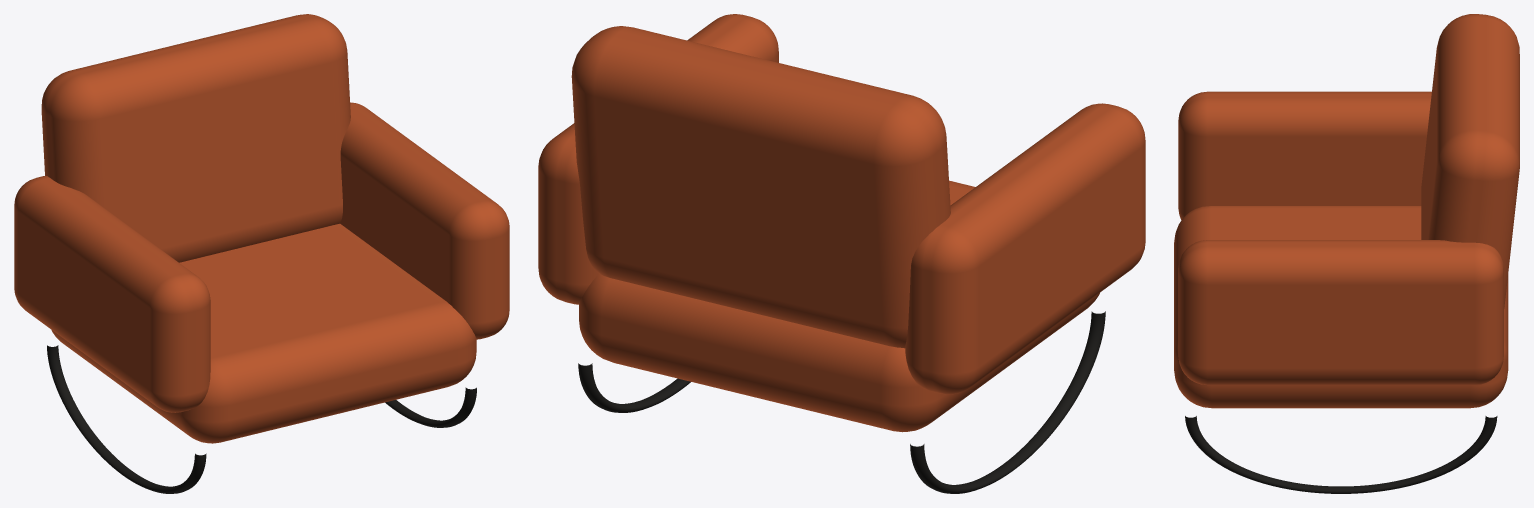
The model's file is kova-armchair.glb.
3 renders of one model, left to right at view 1: azimuth 30°, elevation 25°; view 2: azimuth 150°, elevation 25°; view 3: azimuth 270°, elevation 25°, orthographic. The views are drawn at different scales.
Parts seen in each view (by area): view 1: back, seat, arm-l, arm-r, sled-l, sled-r; view 2: back, arm-l, seat, arm-r, sled-l, sled-r; view 3: arm-r, arm-l, back, seat, sled-r.
Boxes of the visible parts, x1,y1,x2,y2 form: back: (41, 14, 350, 262); seat: (51, 223, 476, 443); arm-l: (14, 175, 210, 412); arm-r: (340, 102, 509, 339); sled-l: (47, 345, 206, 493); sled-r: (385, 387, 476, 427); back: (571, 26, 950, 348); arm-l: (905, 103, 1145, 394); seat: (579, 180, 1099, 432); arm-r: (538, 14, 778, 304); sled-l: (910, 311, 1105, 493); sled-r: (578, 363, 690, 412); arm-r: (1178, 240, 1503, 385); arm-l: (1178, 91, 1431, 219); back: (1421, 14, 1519, 308); seat: (1174, 206, 1508, 408); sled-r: (1185, 416, 1497, 493).
Bounding box in the file's own units: 1 × 0.9303 × 0.828.
